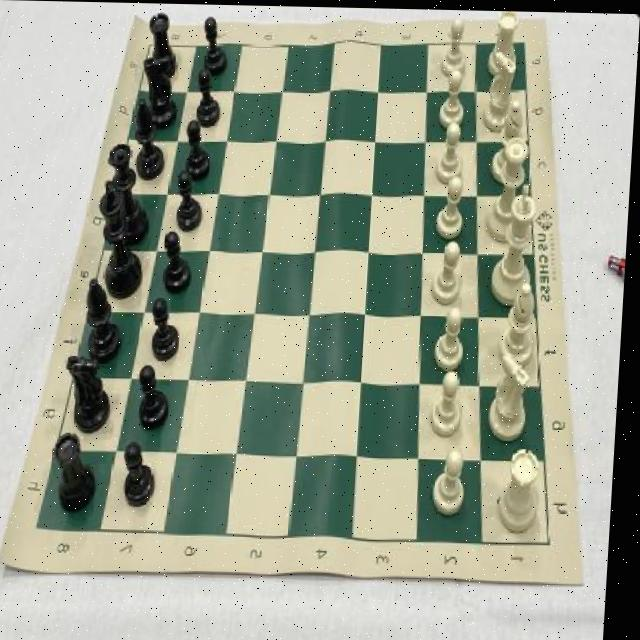bishop: (87, 277, 127, 361), (133, 98, 168, 179)
black-bishop: (100, 177, 152, 297)
black-king: (68, 356, 118, 433), (140, 56, 181, 128)
black-knight: (127, 441, 163, 506), (141, 365, 175, 430), (166, 231, 197, 294), (176, 171, 208, 231), (154, 298, 184, 360), (186, 119, 215, 181), (200, 15, 229, 74), (195, 69, 224, 126)
black-pawn: (106, 141, 155, 241)
black-queen: (58, 432, 104, 513), (147, 12, 180, 78)
black-rook: (502, 280, 541, 364), (492, 98, 527, 182)
white-bishop: (493, 181, 540, 304)
white-king: (492, 349, 538, 440), (482, 49, 518, 130)
white-knight: (436, 448, 475, 515), (436, 305, 474, 371), (434, 368, 469, 436), (435, 174, 469, 237), (433, 239, 466, 302), (437, 120, 467, 183), (440, 14, 467, 76), (439, 68, 468, 124)
white-pawn: (487, 133, 531, 240)
white-queen: (503, 444, 547, 531), (488, 9, 520, 74)
